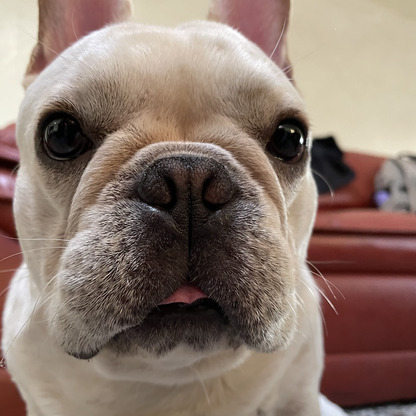bulldog: (9, 6, 342, 416)
